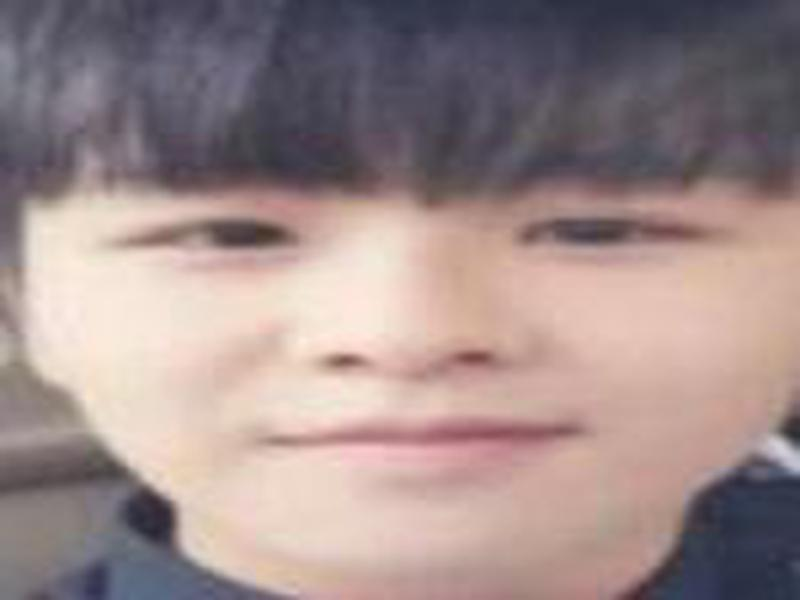without_mask: (12, 129, 800, 574)
